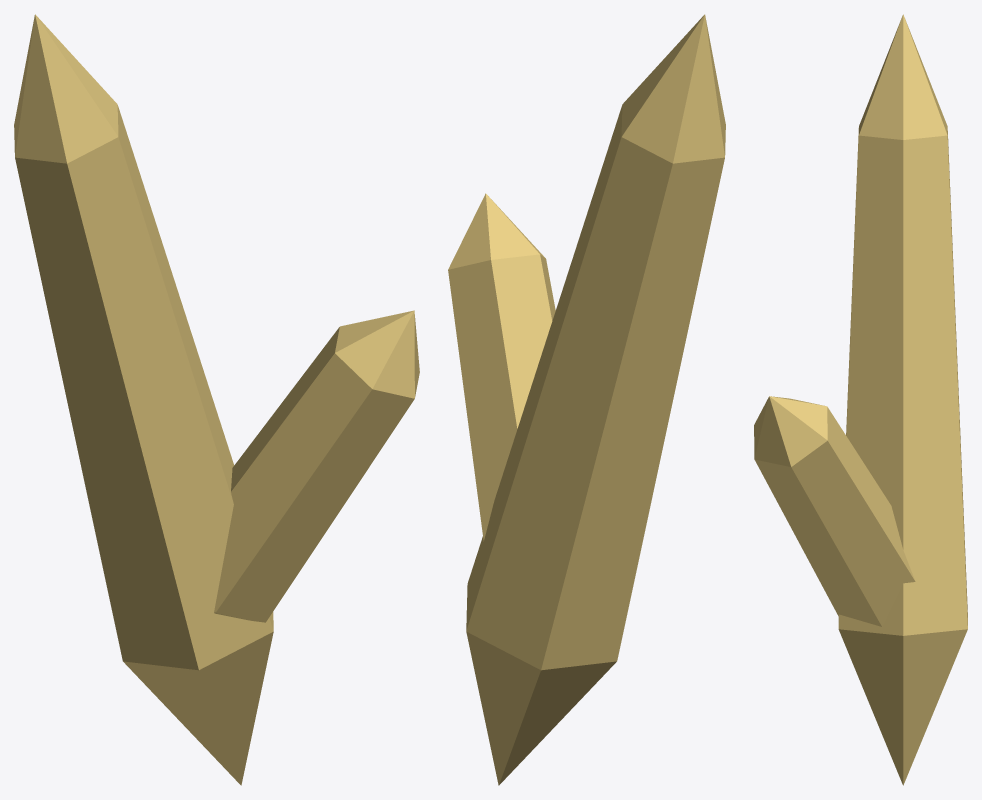
The model's file is cristal_m2.fbx.
3 views of the same model, side by side, from view 1: azimuth 30°, elevation 25°; view 2: azimuth 150°, elevation 25°; view 3: azimuth 270°, elevation 25° (orthographic). The views are drawn at different scales.
Parts seen in each view (by area): view 1: pCylinder3; view 2: pCylinder3; view 3: pCylinder3.
Part boxes in pixels (box(x1,y1,x2,y2)): pCylinder3: box(14, 14, 419, 785); pCylinder3: box(448, 14, 725, 785); pCylinder3: box(754, 14, 967, 785).
Bounding box in the file's own units: 45.26 × 105 × 29.67.
